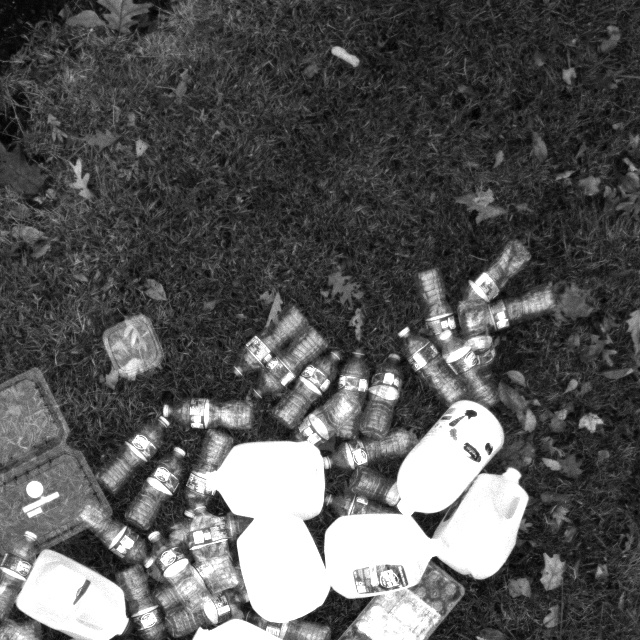bottle: (393, 316, 471, 409), (266, 343, 340, 432), (138, 525, 210, 612), (433, 328, 508, 409), (119, 447, 191, 530), (457, 276, 560, 333), (457, 240, 534, 316), (79, 502, 161, 571), (248, 329, 325, 402), (230, 308, 308, 379), (147, 549, 238, 609), (99, 419, 175, 486), (188, 501, 242, 593), (415, 259, 466, 349), (325, 347, 373, 442), (115, 561, 171, 640), (319, 426, 415, 472), (162, 589, 251, 638), (291, 390, 359, 453), (156, 393, 260, 434), (360, 351, 406, 442), (325, 486, 405, 530), (189, 427, 224, 519), (343, 465, 406, 514)
can: (388, 393, 509, 516), (183, 438, 330, 528), (428, 455, 530, 581), (228, 504, 335, 624), (13, 543, 130, 640), (321, 509, 444, 595)
container: (0, 363, 113, 559), (332, 556, 468, 640), (94, 307, 166, 380)
